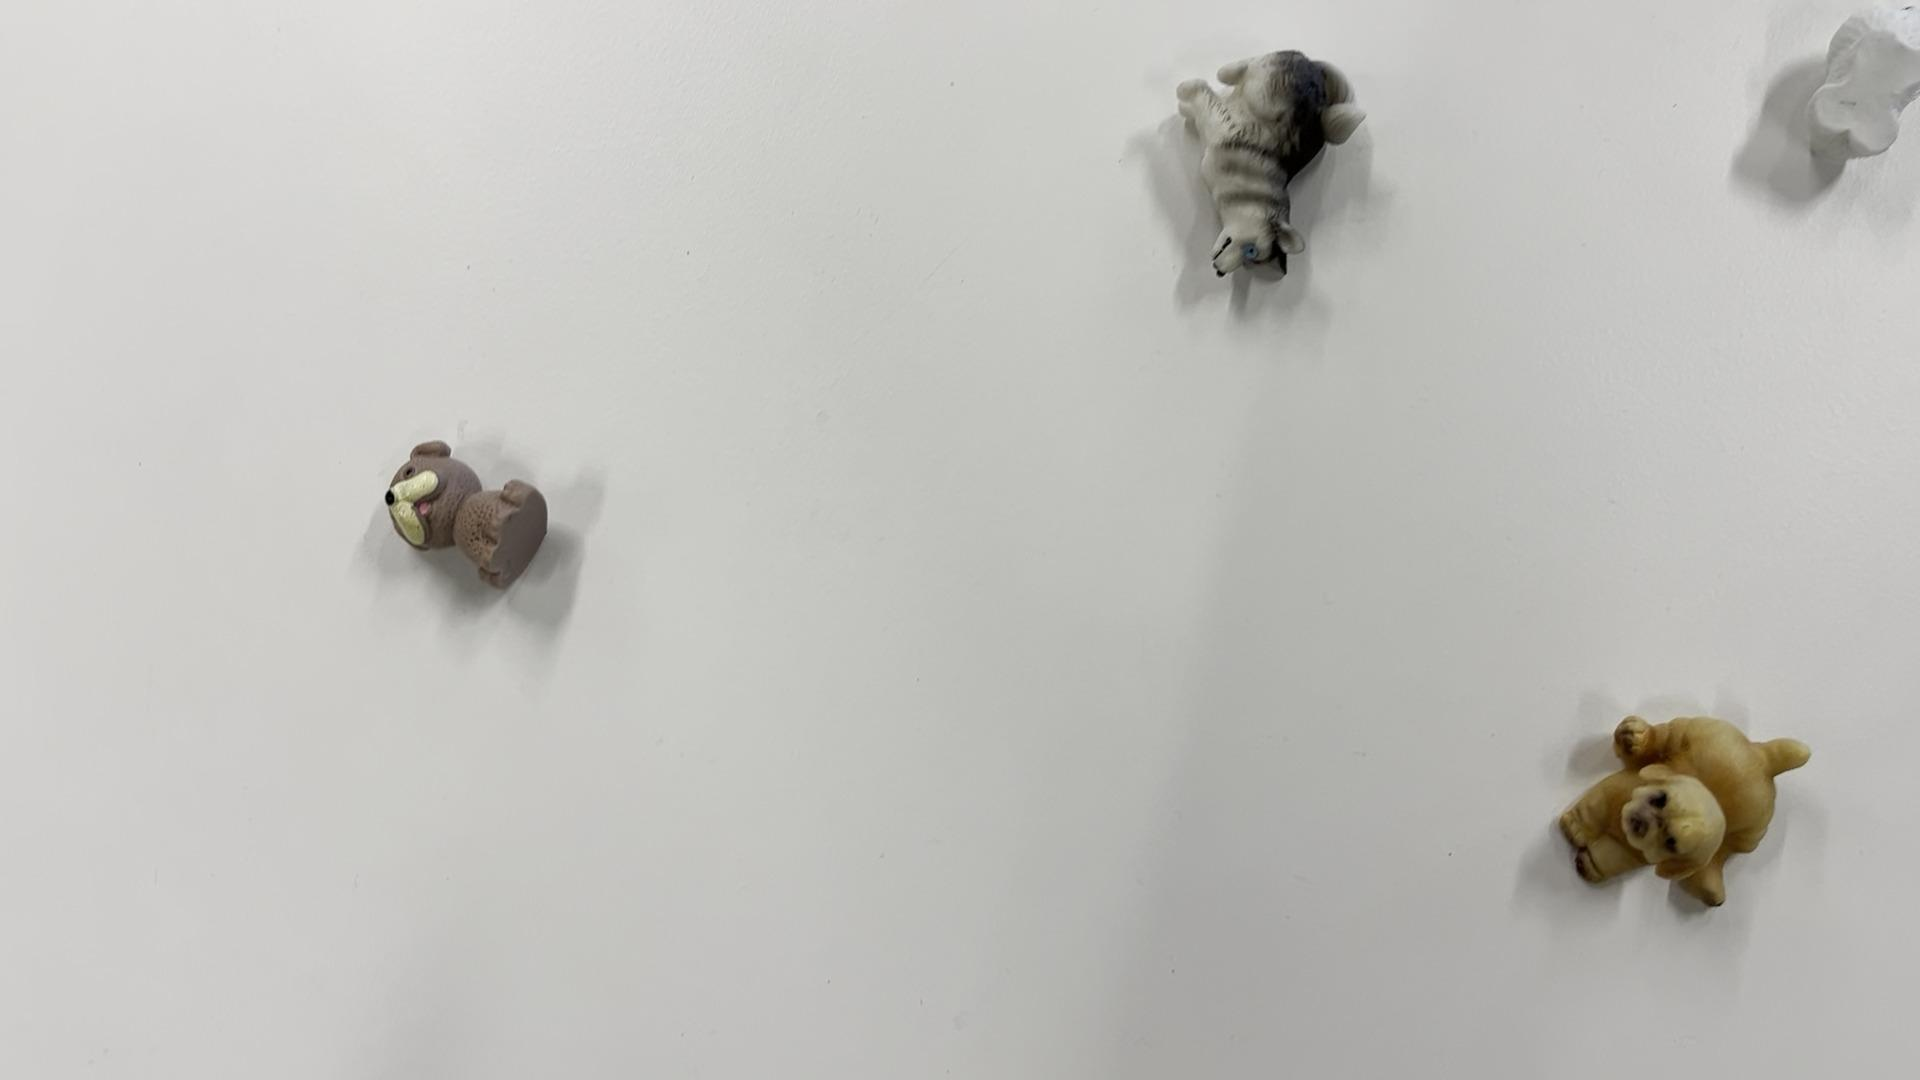pet: (1548, 705, 1815, 915), (1171, 36, 1375, 293), (373, 430, 558, 597), (1788, 0, 1920, 187)
